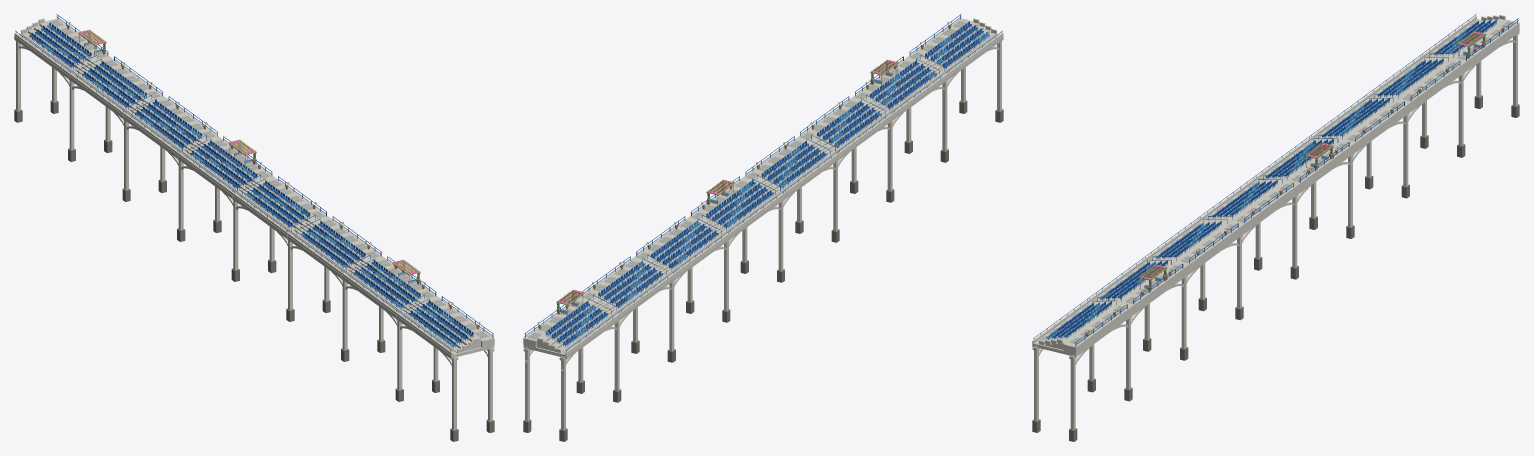
File: santorini_open_terrace_grounded.glb
The picture shows the model from 3 angles, left to right: view 1: azimuth 30°, elevation 25°; view 2: azimuth 150°, elevation 25°; view 3: azimuth 330°, elevation 25°; orthographic projection.
Visible parts, largest first — view 1: EXPORT_santorini_open_terrace_grounded; view 2: EXPORT_santorini_open_terrace_grounded; view 3: EXPORT_santorini_open_terrace_grounded.
Boxes of the visible parts, x1,y1,x2,y2 form: EXPORT_santorini_open_terrace_grounded: [14, 14, 494, 441]; EXPORT_santorini_open_terrace_grounded: [523, 14, 1003, 441]; EXPORT_santorini_open_terrace_grounded: [1032, 14, 1519, 441].
Size of the model in its own units: 9.24 by 21.4 by 161.
